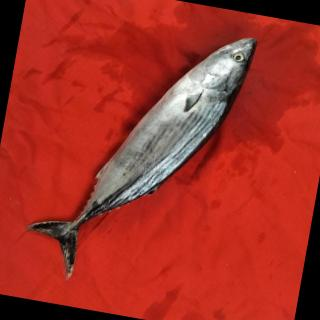Ikan: (10, 1, 271, 311)
